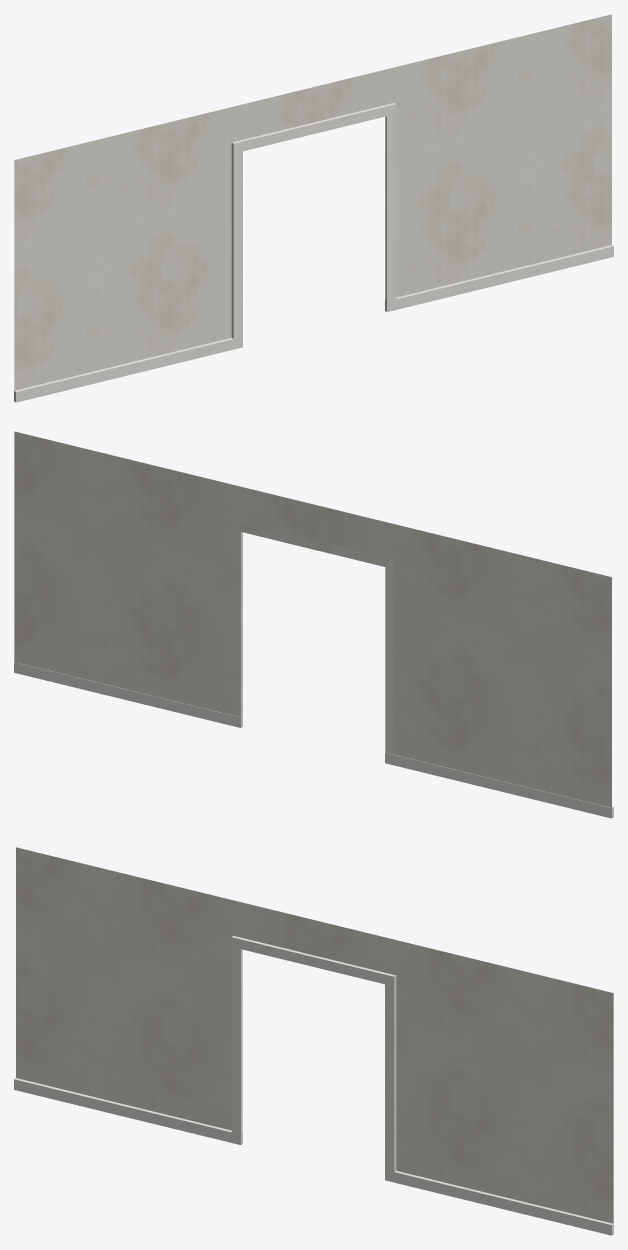
Rendered from wall8_door.gltf.
The picture shows the model from 3 angles, top to bottom: view 1: azimuth 30°, elevation 25°; view 2: azimuth 150°, elevation 25°; view 3: azimuth 330°, elevation 25°; orthographic projection.
Visible parts, largest first — view 1: jx_w8_door; view 2: jx_w8_door; view 3: jx_w8_door.
Boxes of the visible parts, x1,y1,x2,y2 form: jx_w8_door: [14, 14, 613, 402]; jx_w8_door: [14, 431, 613, 818]; jx_w8_door: [14, 847, 613, 1235].
Size of the model in its own units: 8.3 by 3.2 by 0.05.
Materials: 2 (2 with a texture image).
